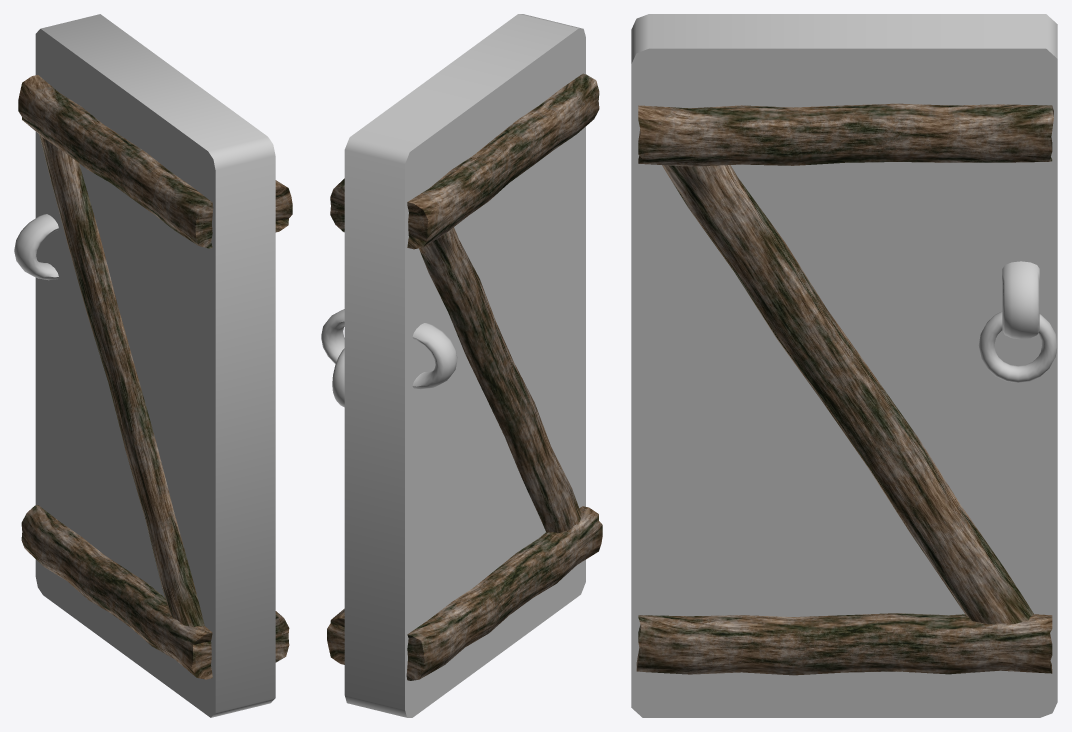
Rendered from WoodenDoor.fbx.
3 views of the same model, side by side, from view 1: azimuth 30°, elevation 25°; view 2: azimuth 150°, elevation 25°; view 3: azimuth 270°, elevation 25° (orthographic). The views are drawn at different scales.
Parts seen in each view (by area): view 1: Cube; view 2: Cube, Torus.002; view 3: Cube, Torus.002.
Boxes of the visible parts, x1,y1,x2,y2 form: Cube: (14, 14, 292, 717); Cube: (321, 14, 602, 717); Torus.002: (332, 348, 344, 407); Cube: (631, 14, 1057, 717); Torus.002: (978, 311, 1057, 382).
Size of the model in its own units: 122 by 506 by 293.
